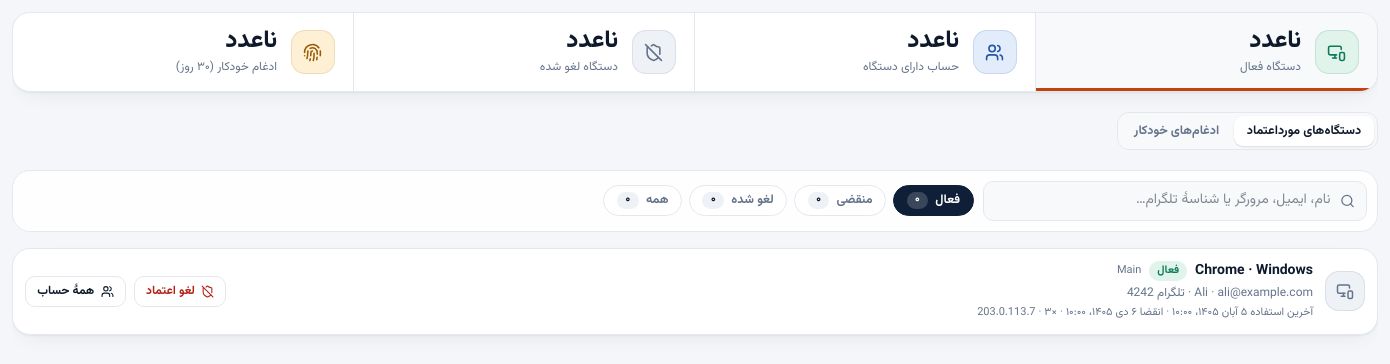
Test: admin «هویت خودکار» › shows automatic merges with both accounts and the rule
Click the radio button labelled "ادغام‌های خودکار".
click(1177, 131)  # box [1121,116,1232,146]
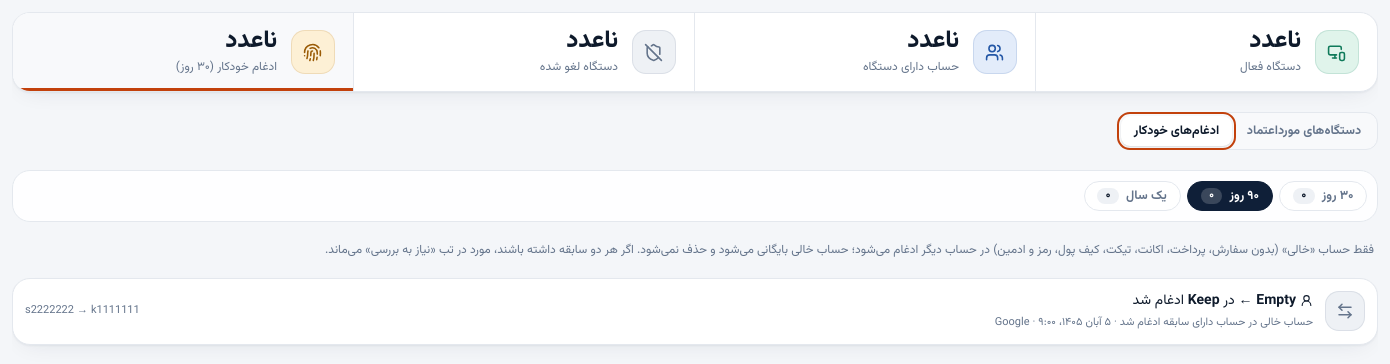
Result: the text "Empty" is shown at [1256,290,1296,312]
Result: the text "Keep" is shown at [1188,290,1220,312]
Result: the text "حساب خالی در حساب دارای سابقه ادغام شد" is shown at [1120,314,1313,331]
